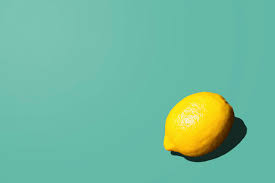Lemon: (157, 92, 252, 166)
